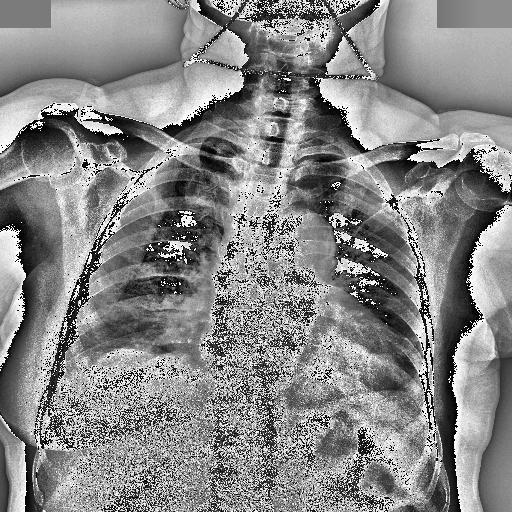0- Aortic enlargement: (264, 211, 337, 281), (274, 204, 336, 280), (280, 212, 336, 260)
3- Cardiomegaly: (198, 308, 404, 394), (196, 308, 402, 392), (195, 327, 402, 389)
7- Lung Opacity: (66, 290, 202, 364)
9- Other lesion: (216, 249, 268, 349)
